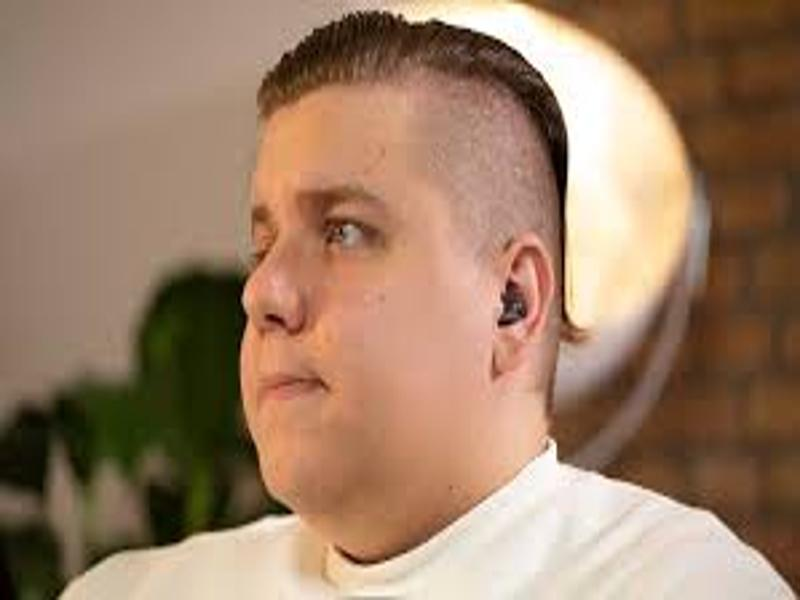headphone: (493, 287, 532, 324)
